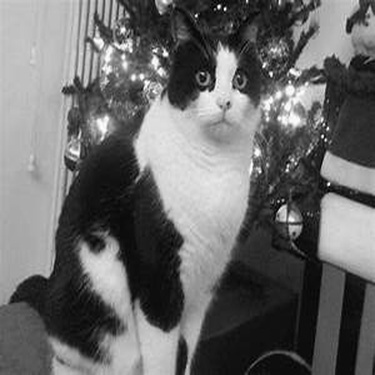cat: (5, 5, 266, 362)
